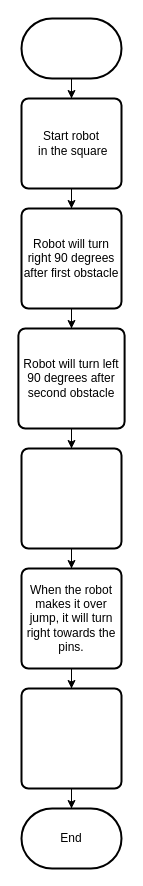
Image size: 143x886. Some labels were removed from this diagram. Here are the shapes that lost their labels. From the top down, the centre of each, then its label:
At (71,48): "Start".
At (71,498): "Robot will turn right 90 degrees after third obstacle".
At (71,738): "Robot will turn into pins and knock them over".
